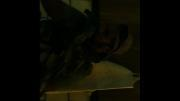gun: (40, 8, 100, 94)
